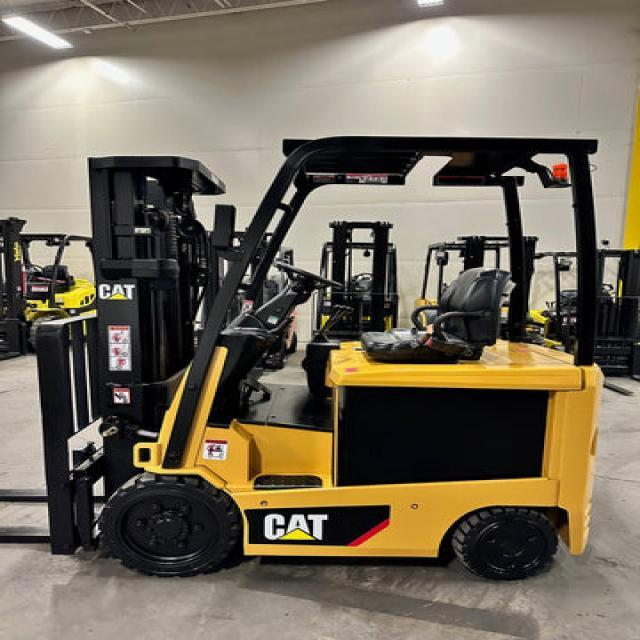forklift: (27, 124, 625, 597)
